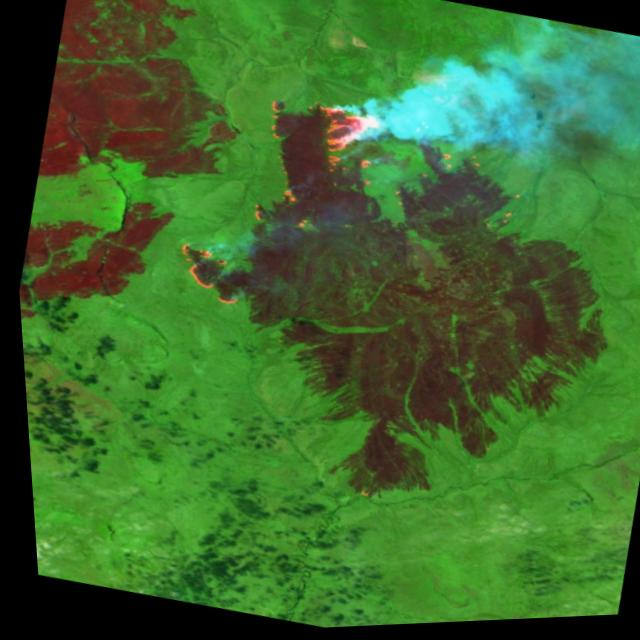fire: (243, 74, 540, 259), (153, 232, 251, 315)
